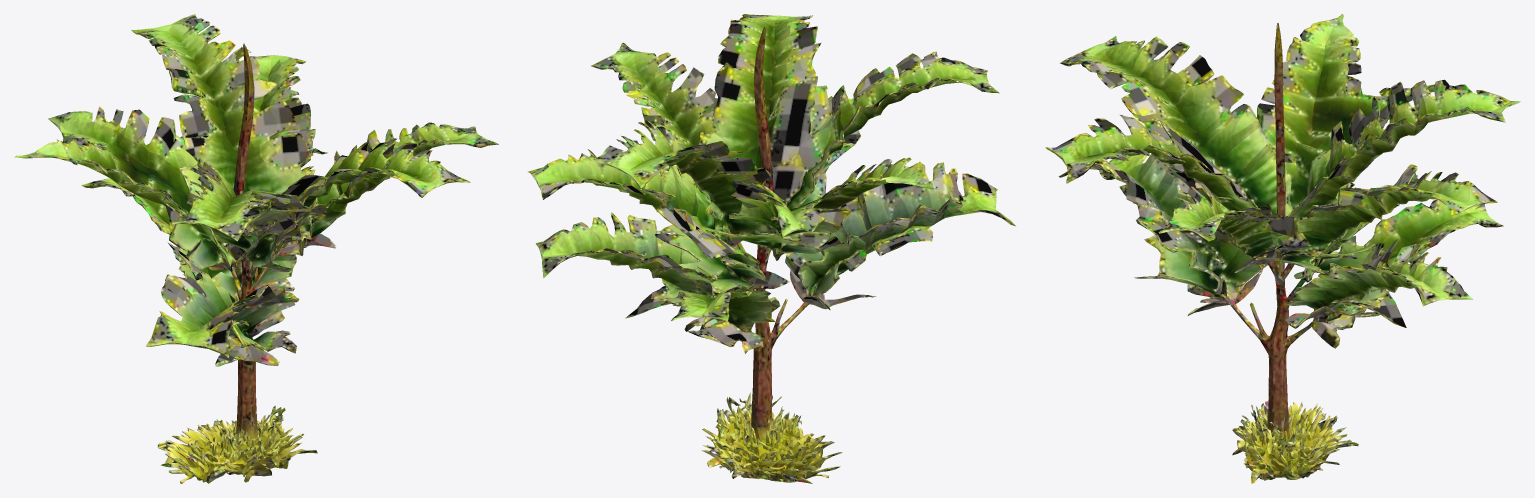
File: nature_fern_01.glb
The picture shows the model from 3 angles, left to right: view 1: azimuth 30°, elevation 25°; view 2: azimuth 150°, elevation 25°; view 3: azimuth 270°, elevation 25°; orthographic projection. The views are drawn at different scales.
Visible parts, largest first — view 1: geometry_0; view 2: geometry_0; view 3: geometry_0.
Boxes of the visible parts, bbox=[...] form: geometry_0: bbox=[14, 14, 498, 483]; geometry_0: bbox=[527, 14, 1015, 483]; geometry_0: bbox=[1045, 14, 1520, 483].
Size of the model in its own units: 0.9828 by 1 by 0.9776.
Materials: 1 (1 with a texture image).
